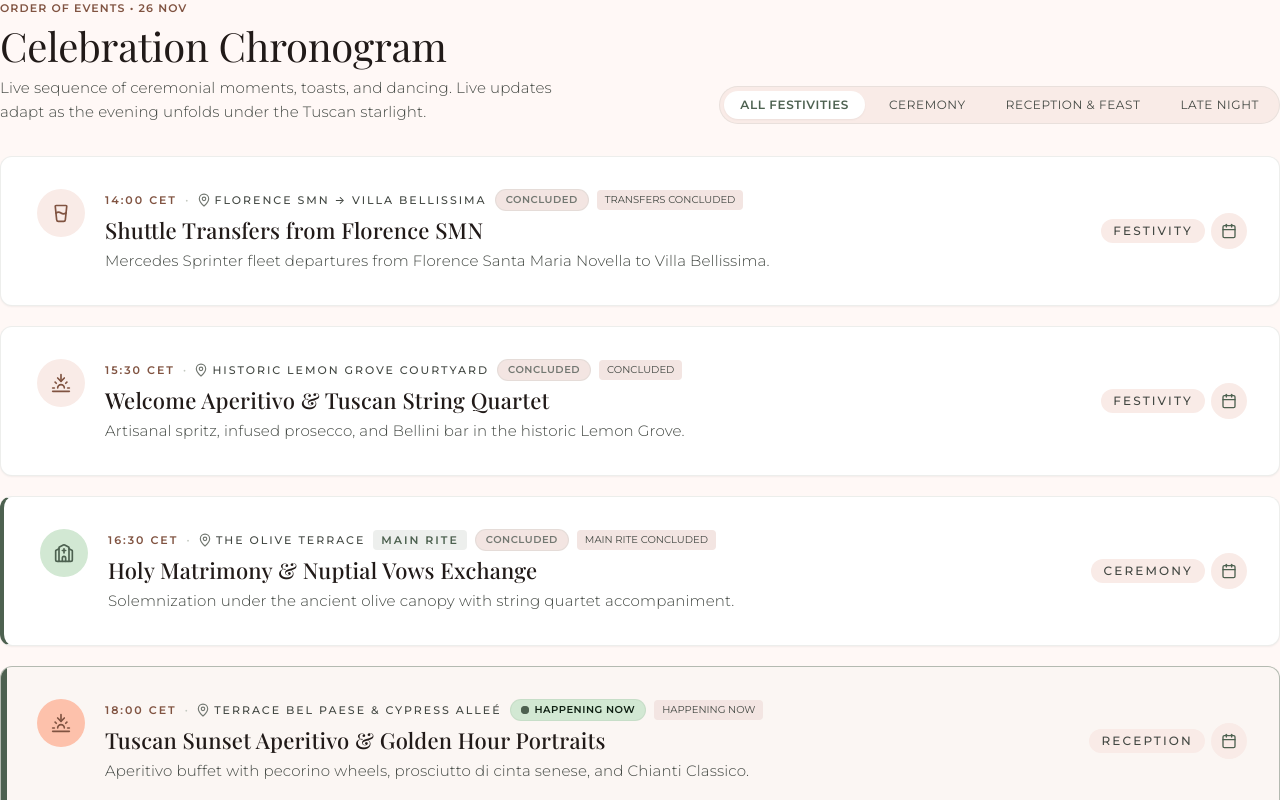
Test: Milestone 3 Empirical Challenge: Adversarial Probing & Stress Tests › verifies itinerary filtering across all 4 categories correctly
This screenshot has width=1280, height=800.
Expected: the heading "Shuttle Transfers from Florence SMN" is shown, [105,215,483,245]
Expected: the heading "Holy Matrimony & Nuptial Vows Exchange" is shown, [108,555,537,585]
Ceremony Filter
Click the button with test id "itinerary-filter-ceremony" at (927, 105), box [873,91,982,119]
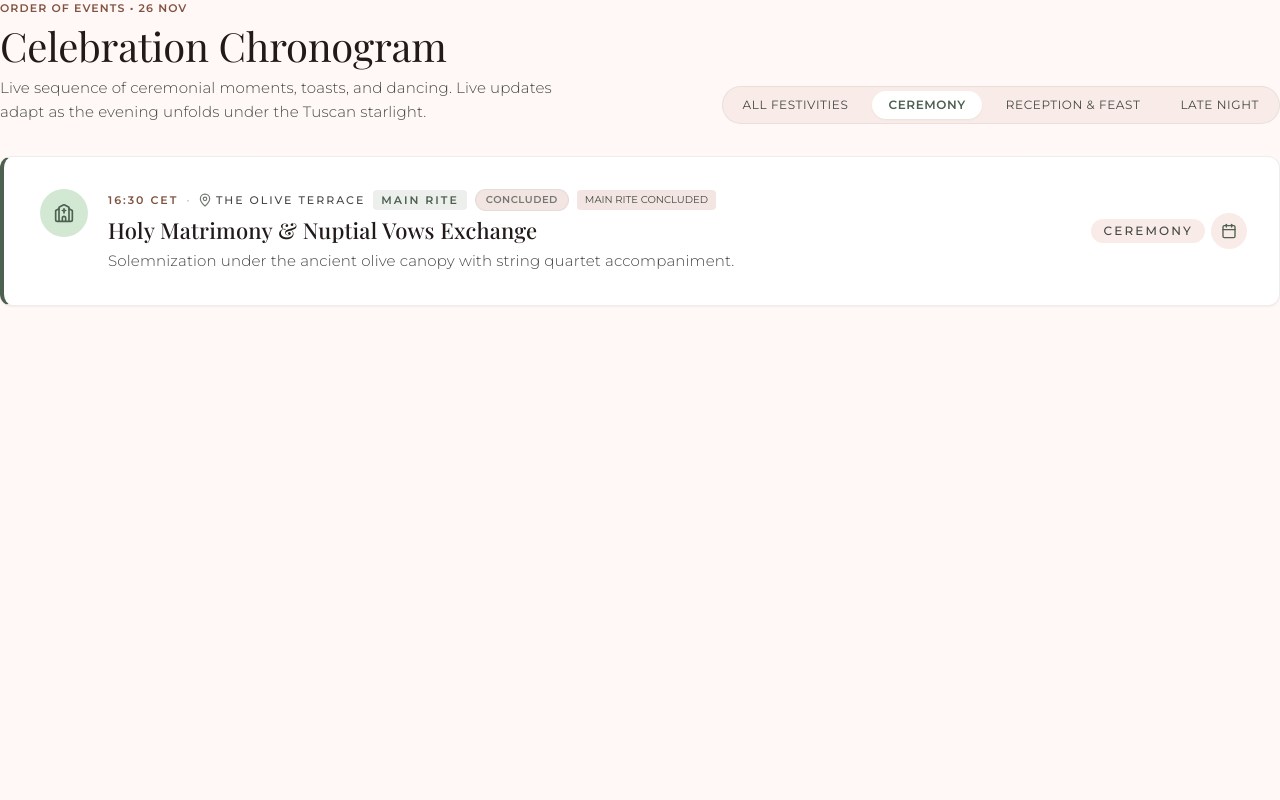
Expected: the heading "Holy Matrimony & Nuptial Vows Exchange" is shown, [108,215,537,245]
Result: the heading "Shuttle Transfers from Florence SMN" is gone
Reception & Feast Filter (matches 'reception' and 'festivity')
Click the button with test id "itinerary-filter-reception" at (1073, 105), box [990,91,1156,119]
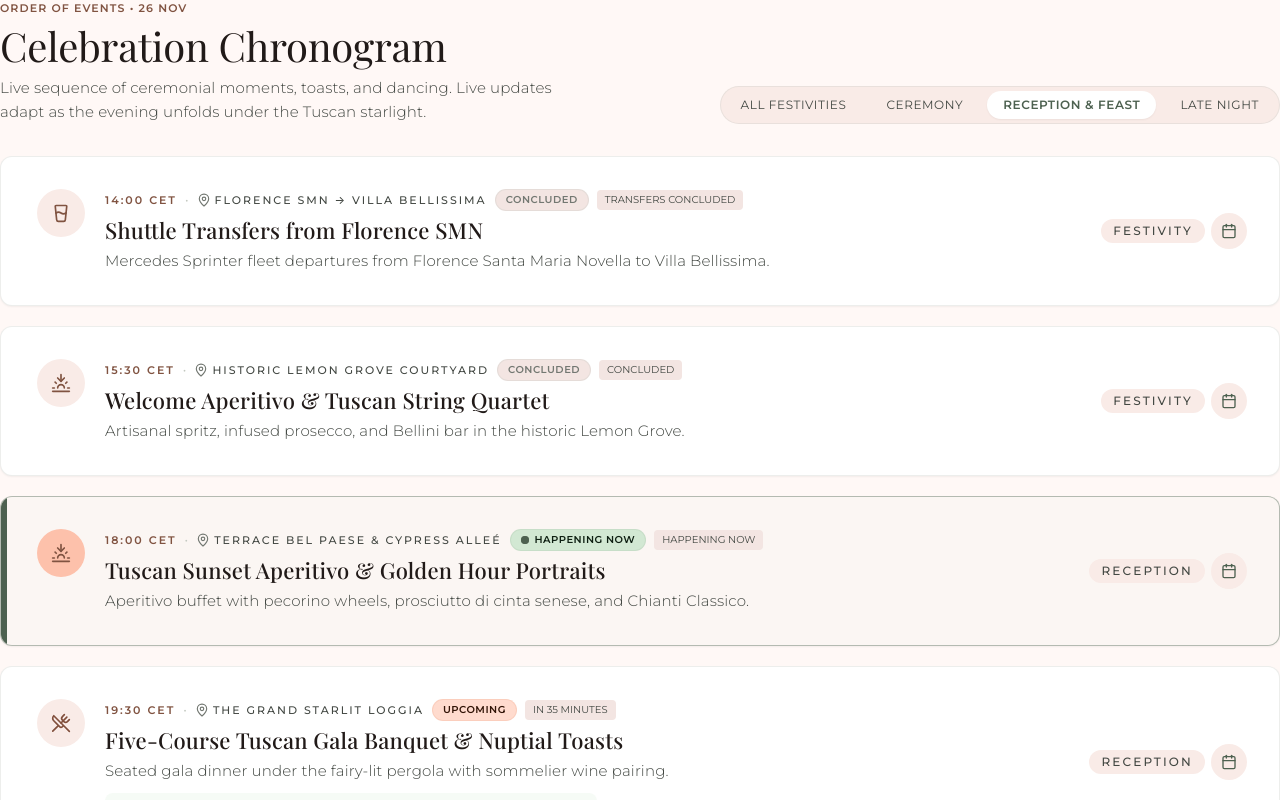
Result: the heading "Tuscan Sunset Aperitivo & Golden Hour Portraits" is shown at [105,555,606,585]
Result: the heading "Five-Course Tuscan Gala Banquet & Nuptial Toasts" is shown at [105,725,669,755]
Result: the heading "Welcome Aperitivo & Tuscan String Quartet" is shown at [105,385,550,415]
Late Night Filter (matches 'party')
Click the button with test id "itinerary-filter-late-night" at (1220, 105), box [1164,91,1275,119]
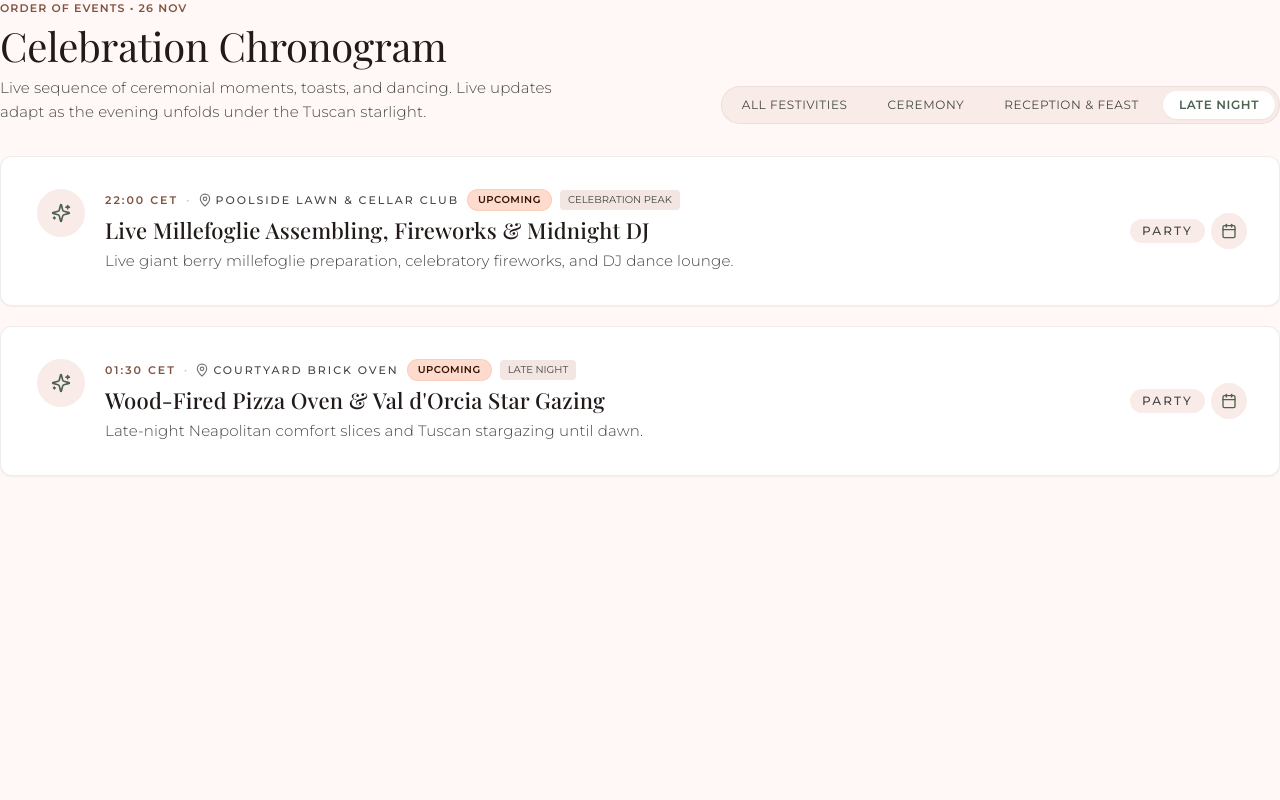
Expected: the heading "Holy Matrimony & Nuptial Vows Exchange" is not shown
Result: the heading "Live Millefoglie Assembling, Fireworks & Midnight DJ" is shown at [105,215,734,245]
Result: the heading "Wood-Fired Pizza Oven & Val d'Orcia Star Gazing" is shown at [105,385,643,415]
